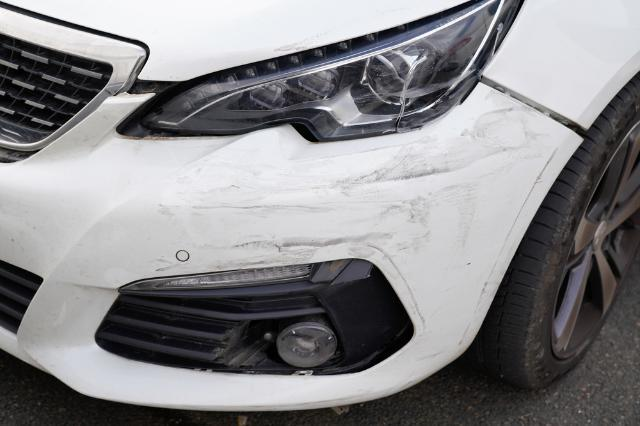lamp broken: (127, 0, 525, 142)
scratch: (165, 108, 557, 353)
